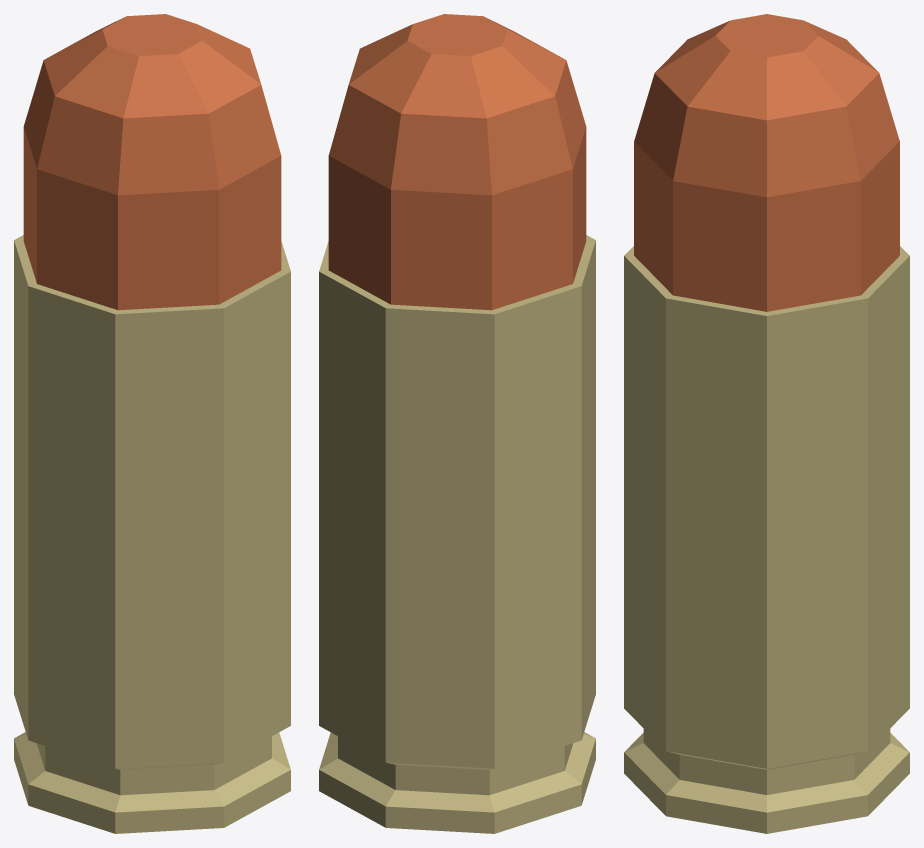
Rendered from CRT-9mm.fbx.
3 views of the same model, side by side, from view 1: azimuth 30°, elevation 25°; view 2: azimuth 150°, elevation 25°; view 3: azimuth 270°, elevation 25° (orthographic).
Parts seen in each view (by area): view 1: Cylinder; view 2: Cylinder; view 3: Cylinder.
Boxes of the visible parts, box(x1,y1,x2,y2) form: Cylinder: box(14, 14, 290, 833); Cylinder: box(319, 14, 595, 833); Cylinder: box(624, 14, 909, 833).
Bounding box in the file's own units: 25.74 × 73.35 × 25.74.
